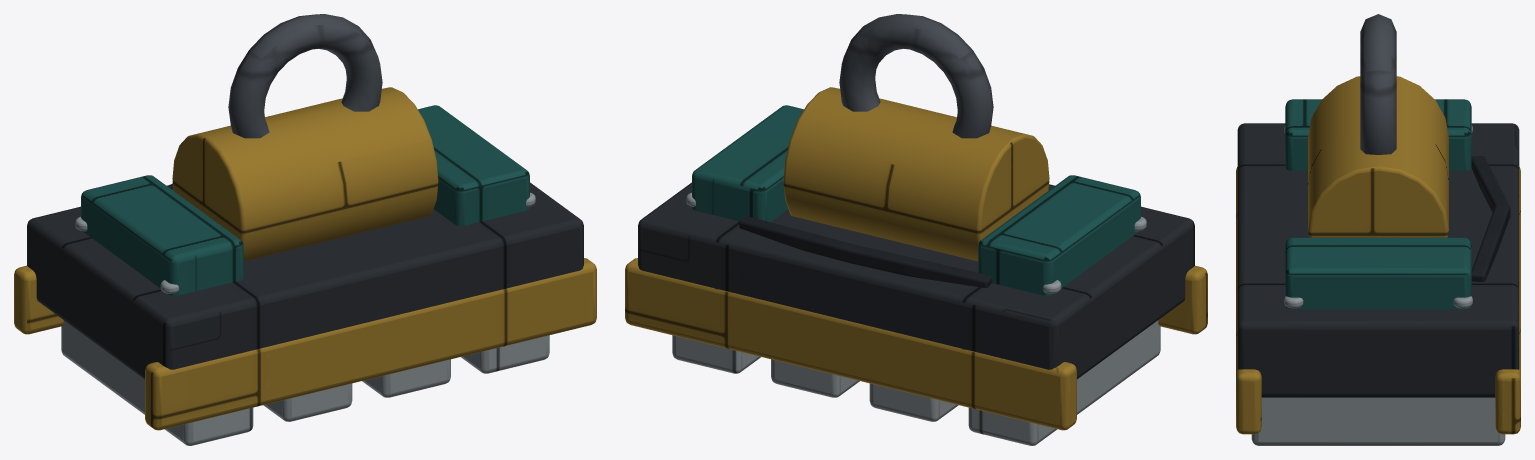
File: cargo-magnetic-handling-shoe_lod0.glb
The picture shows the model from 3 angles, left to right: view 1: azimuth 30°, elevation 25°; view 2: azimuth 150°, elevation 25°; view 3: azimuth 270°, elevation 25°; orthographic projection.
Visible parts, largest first — view 1: LOD0_Livery, LOD0_Armor, LOD0_Hull, LOD0_BrushedMetal, LOD0_Mechanical; view 2: LOD0_Livery, LOD0_Armor, LOD0_Hull, LOD0_BrushedMetal, LOD0_Mechanical, LOD0_MechanicalDark; view 3: LOD0_Armor, LOD0_Livery, LOD0_Hull, LOD0_BrushedMetal, LOD0_Mechanical, LOD0_MechanicalDark.
Boxes of the visible parts, <box> form: LOD0_Livery: <box>14,87,596,430</box>; LOD0_Armor: <box>27,182,583,379</box>; LOD0_Hull: <box>81,105,529,295</box>; LOD0_BrushedMetal: <box>61,192,549,445</box>; LOD0_Mechanical: <box>228,14,382,138</box>; LOD0_Livery: <box>625,87,1207,430</box>; LOD0_Armor: <box>638,182,1194,379</box>; LOD0_Hull: <box>692,105,1140,295</box>; LOD0_BrushedMetal: <box>672,192,1160,445</box>; LOD0_Mechanical: <box>839,14,993,138</box>; LOD0_MechanicalDark: <box>739,216,991,287</box>; LOD0_Armor: <box>1237,123,1519,397</box>; LOD0_Livery: <box>1236,76,1520,434</box>; LOD0_Hull: <box>1285,99,1471,309</box>; LOD0_BrushedMetal: <box>1251,125,1505,445</box>; LOD0_Mechanical: <box>1360,14,1396,154</box>; LOD0_MechanicalDark: <box>1471,156,1510,281</box>.
Bounding box in the file's own units: 1.8 × 1.32 × 1.01.
6 materials, 6 textured.
